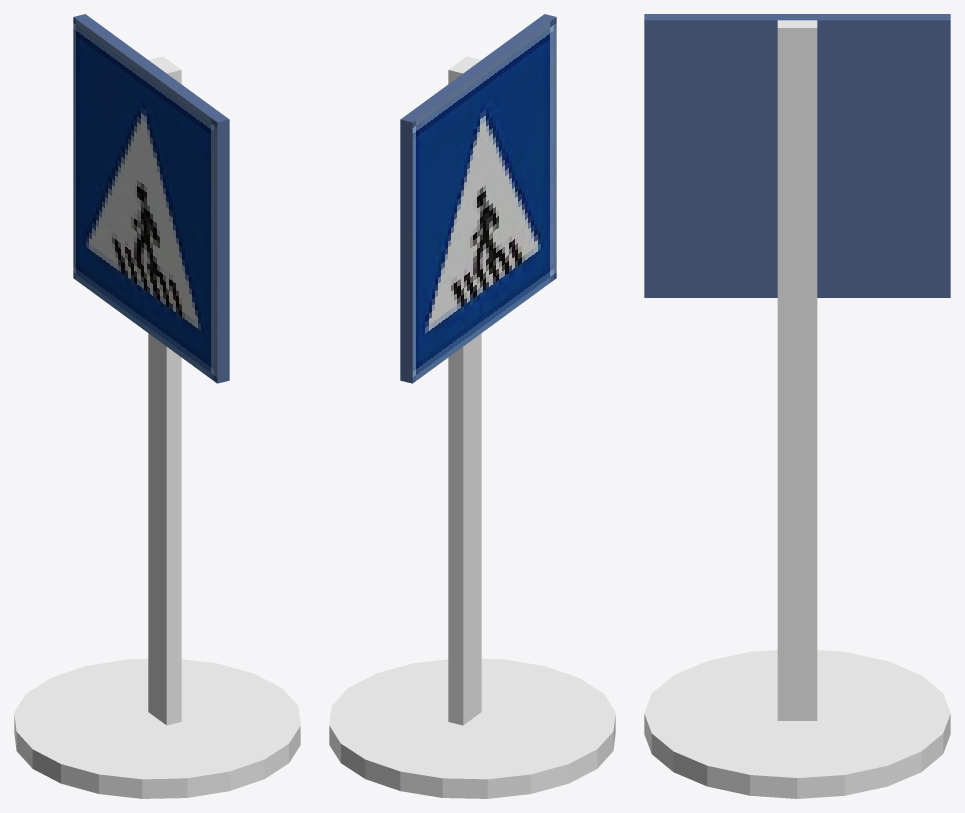
File: SignWalking.dae
The picture shows the model from 3 angles, left to right: view 1: azimuth 30°, elevation 25°; view 2: azimuth 150°, elevation 25°; view 3: azimuth 270°, elevation 25°; orthographic projection. The views are drawn at different scales.
Visible parts, largest first — view 1: SignWalking.001; view 2: SignWalking.001; view 3: SignWalking.001.
Boxes of the visible parts, box(x1,y1,x2,y2) form: SignWalking.001: box(14, 14, 300, 798); SignWalking.001: box(329, 14, 615, 798); SignWalking.001: box(644, 14, 950, 798).
Size of the model in its own units: 0.07 by 0.07 by 0.18.
